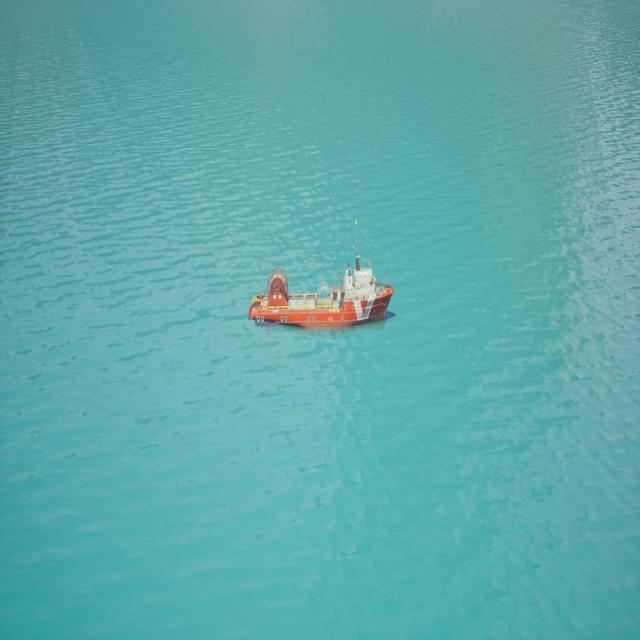tug boat: (249, 228, 397, 335)
